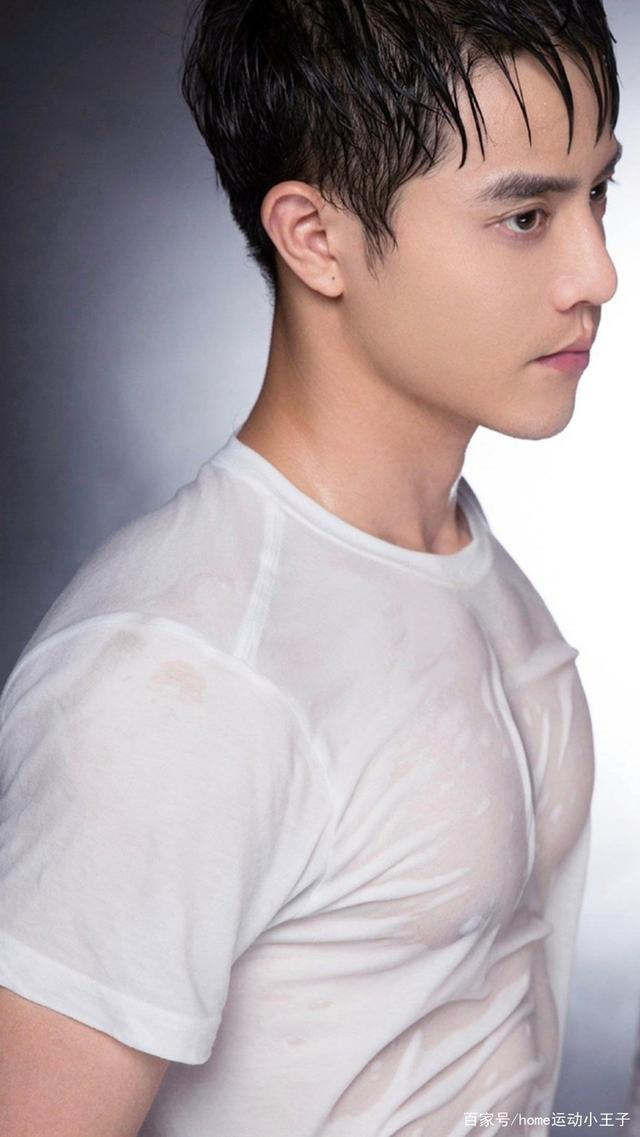person: (101, 51, 582, 1137)
